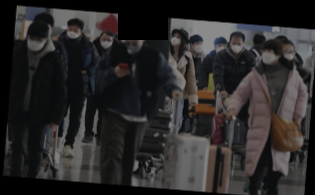with_mask: (25, 34, 44, 52), (123, 37, 142, 55), (258, 48, 276, 64), (65, 25, 80, 39), (282, 47, 296, 62), (99, 36, 113, 49), (229, 39, 242, 53), (169, 33, 182, 46), (192, 40, 203, 53), (214, 42, 226, 52)
